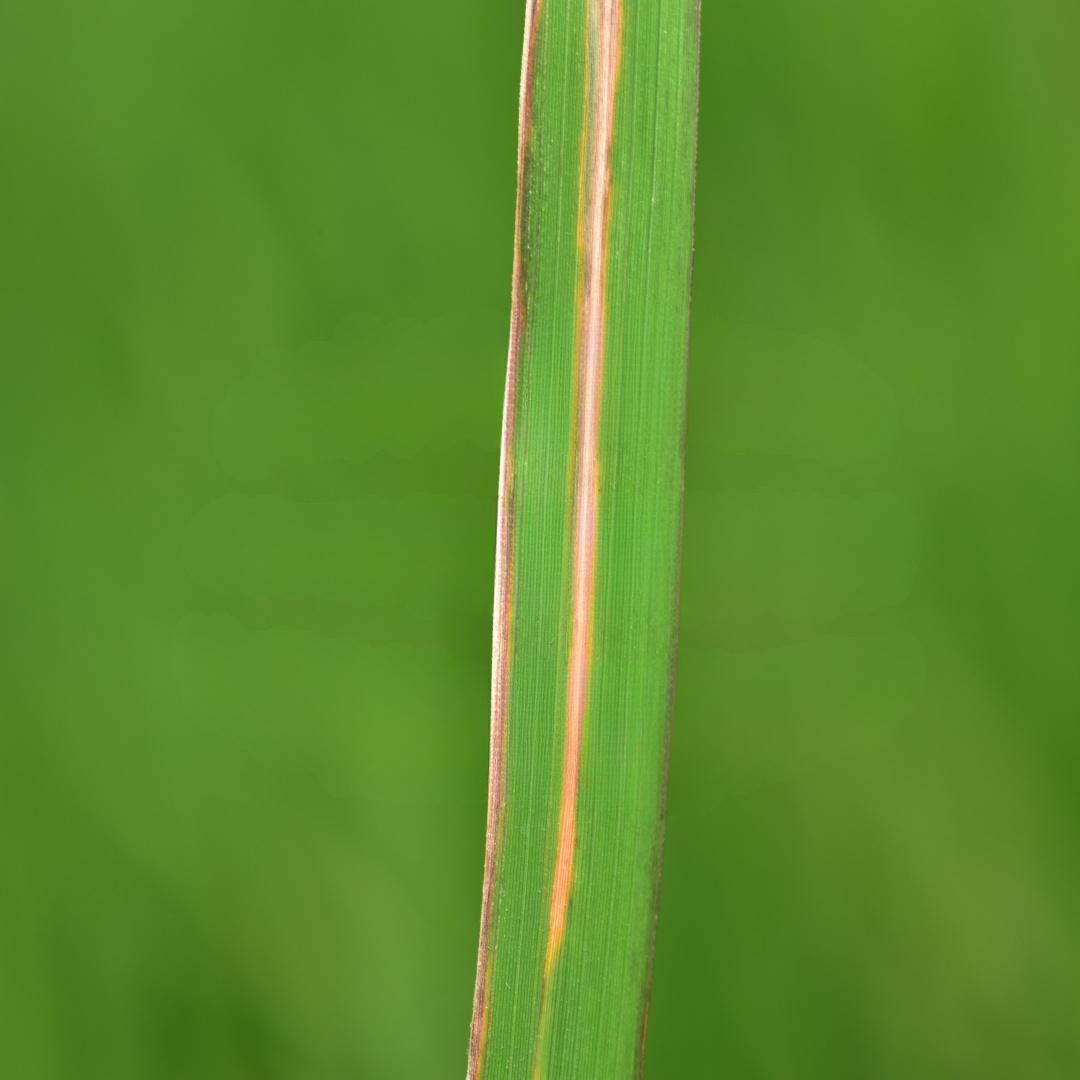BLB: (467, 0, 544, 1079), (543, 0, 624, 984)
LEAF: (466, 0, 700, 1079)
